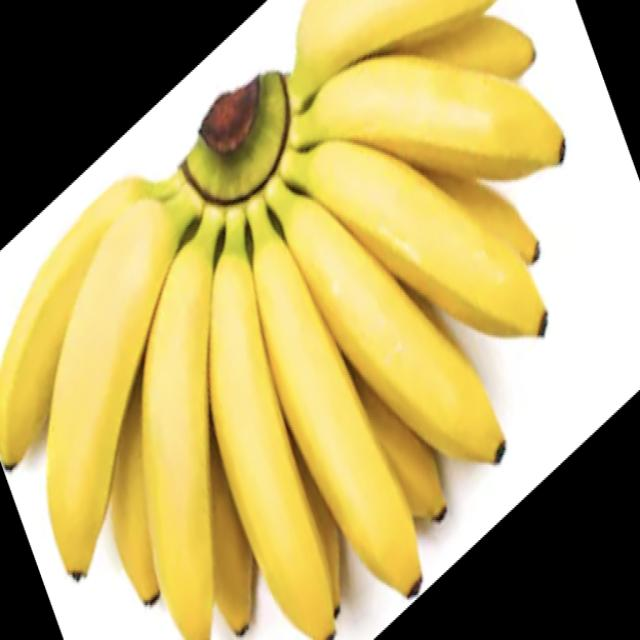god quality banana: (0, 0, 566, 638)
